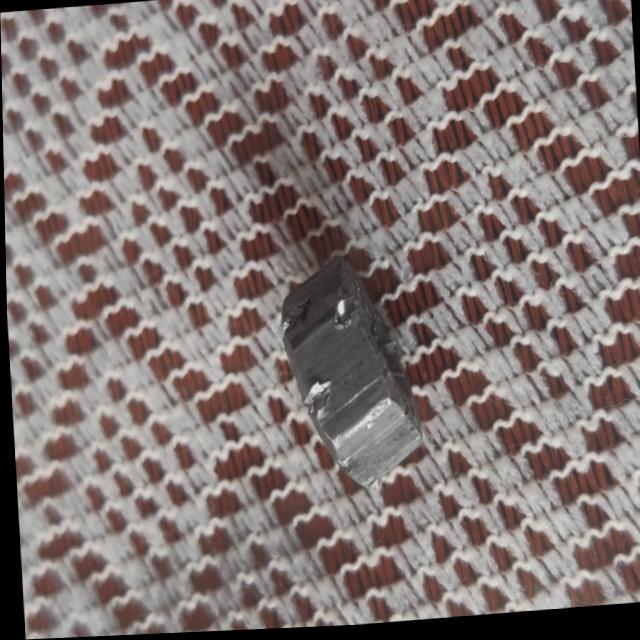infected nut: (280, 258, 420, 490)
